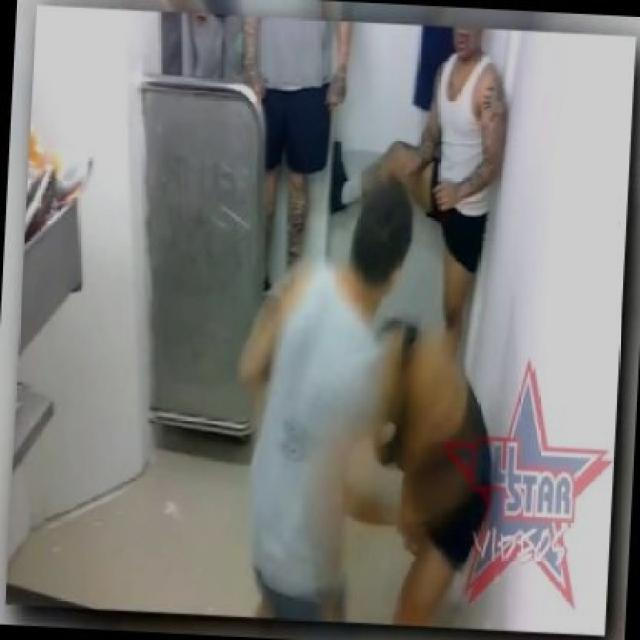fight: (229, 163, 530, 637)
non-fight: (331, 12, 514, 362), (194, 0, 374, 295)
